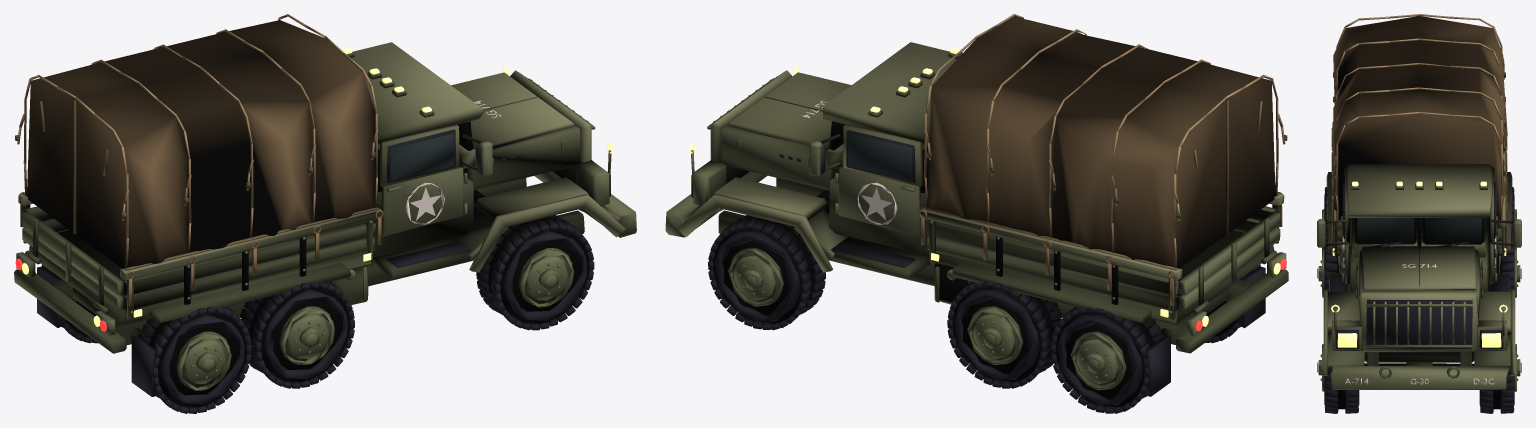
3 renders of one model, left to right at view 1: azimuth 30°, elevation 25°; view 2: azimuth 150°, elevation 25°; view 3: azimuth 270°, elevation 25°, orthographic. The views are drawn at different scales.
Visible parts, largest first — view 1: body, object 8, wheelFL, wheelRL; view 2: body, object 8, wheelFR, wheelRR; view 3: body, object 8, wheelFR, wheelFL, lightsFront.
Part boxes in pixels (box(x1,y1,x2,y2)): body: box(14, 14, 636, 396); object 8: box(22, 48, 492, 388); wheelFL: box(476, 215, 594, 330); wheelRL: box(138, 307, 251, 413); body: box(665, 14, 1288, 396); object 8: box(809, 48, 1280, 388); wheelFR: box(708, 215, 825, 330); wheelRR: box(1050, 307, 1164, 413); body: box(1323, 14, 1515, 389); object 8: box(1317, 179, 1521, 297); wheelFR: box(1479, 344, 1521, 413); wheelFL: box(1317, 344, 1359, 413); lightsFront: box(1331, 304, 1507, 347).
Bounding box in the file's own units: 6.93 × 3.65 × 2.9.
